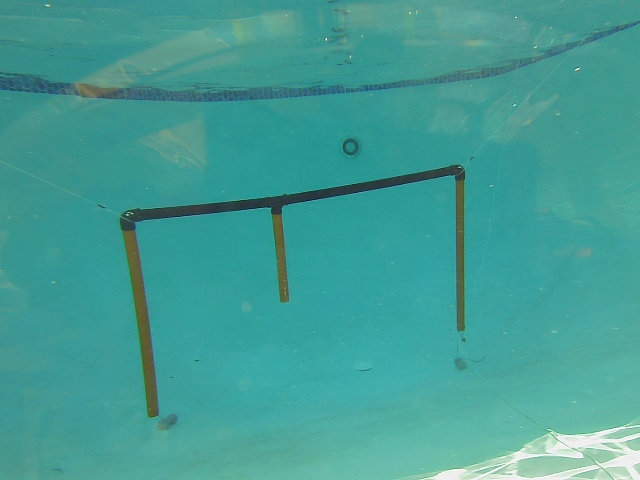Gate: (120, 225, 162, 422), (453, 174, 467, 333), (268, 209, 290, 307)
